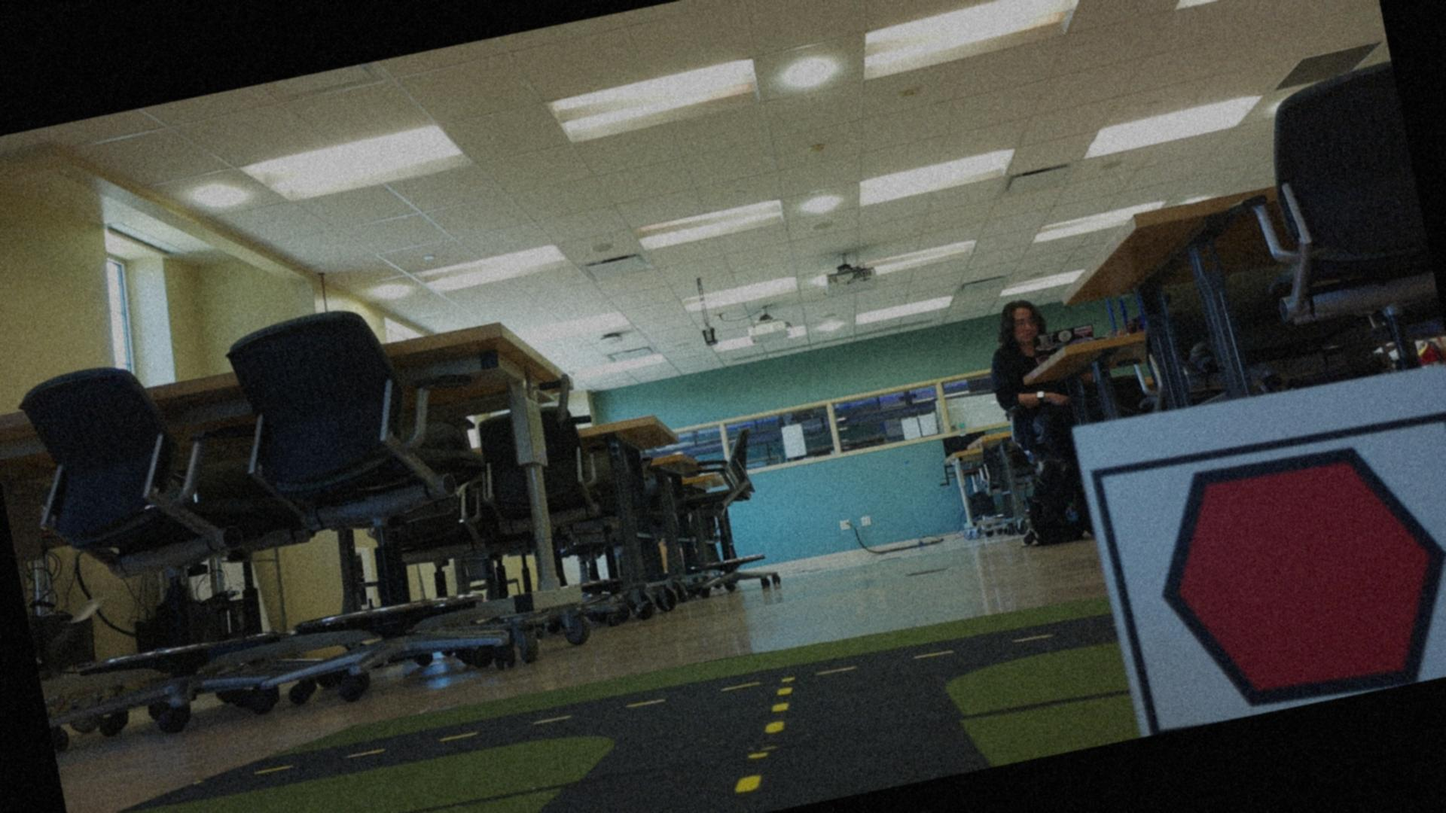stop: (1121, 420, 1445, 731)
yellowline: (718, 685, 808, 793)
